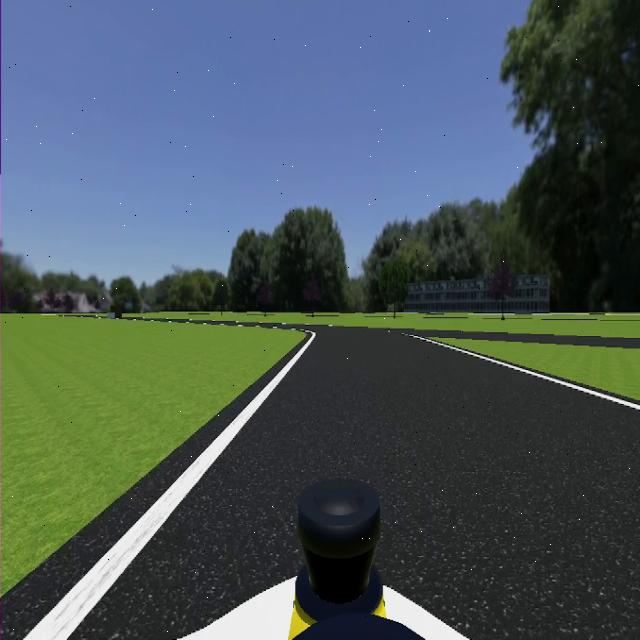road: (69, 332, 640, 640)
solid_line: (22, 334, 315, 640), (410, 335, 640, 412)
